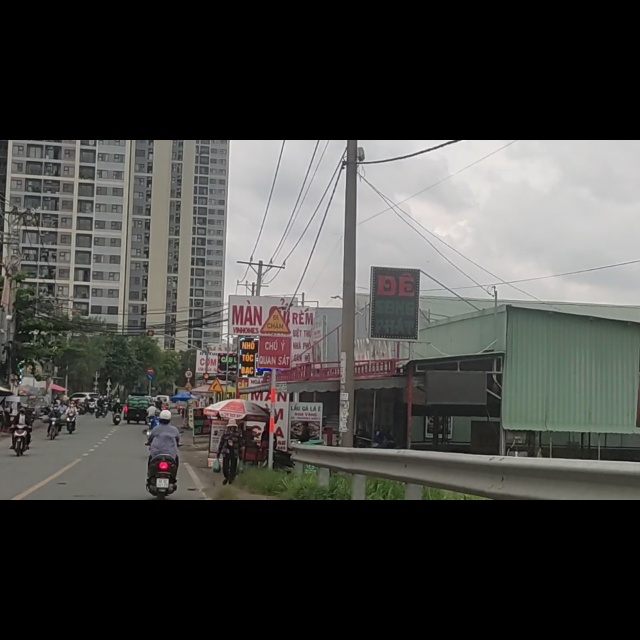bien_cam: (261, 299, 289, 344), (208, 421, 223, 448)
